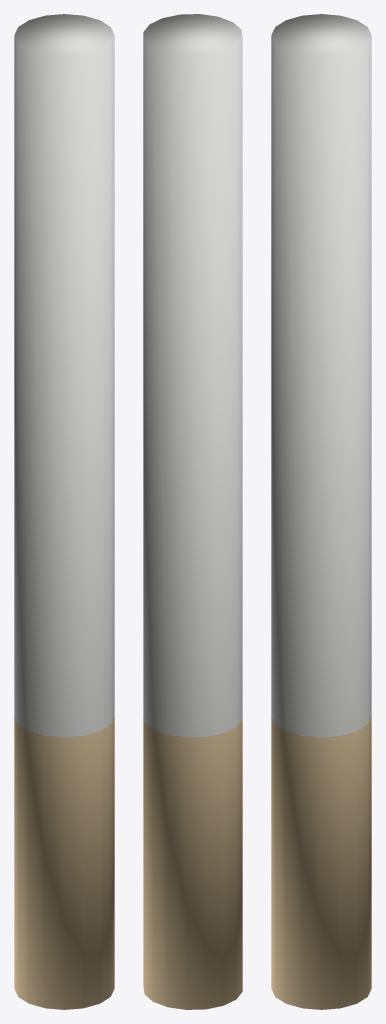
File: Cigarette_Single.fbx
3 views of the same model, side by side, from view 1: azimuth 90°, elevation 25°; view 2: azimuth 150°, elevation 25°; view 3: azimuth 270°, elevation 25° (orthographic).
Visible parts, largest first — view 1: Cigarette_Single; view 2: Cigarette_Single; view 3: Cigarette_Single.
Part boxes in pixels (left/top/right/bottom): Cigarette_Single: left=14, top=14, right=114, bottom=1009; Cigarette_Single: left=143, top=14, right=242, bottom=1009; Cigarette_Single: left=271, top=14, right=371, bottom=1009.
Size of the model in its own units: 0.008 by 0.084 by 0.008.
